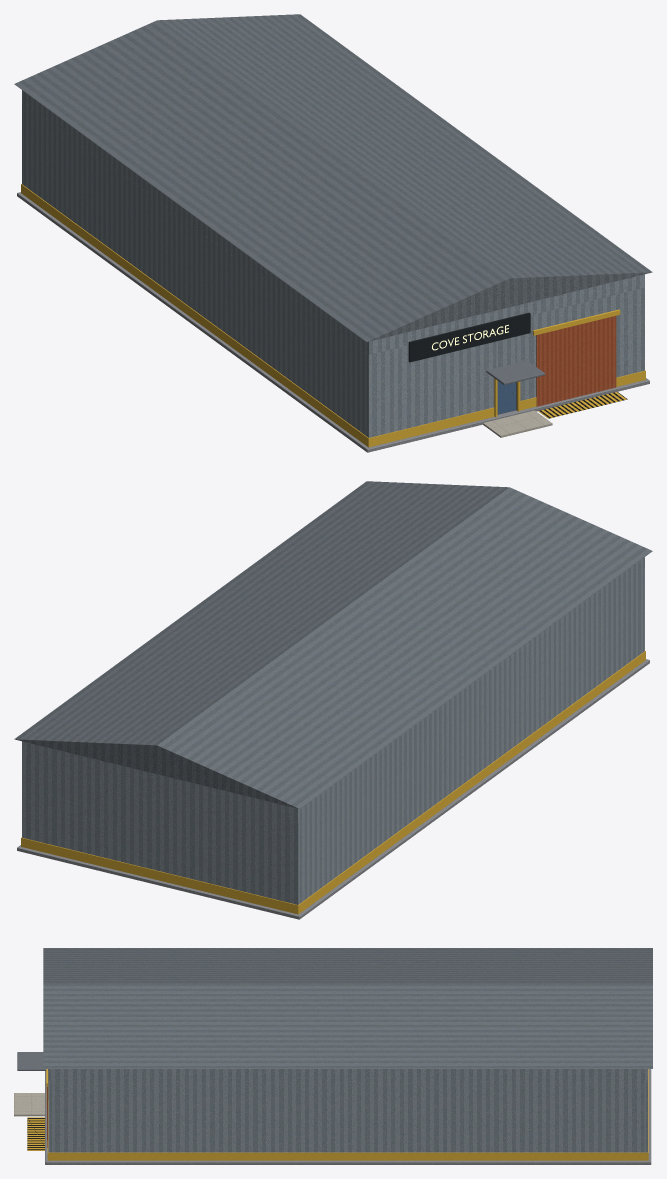
The model's file is exterior.glb.
3 views of the same model, one above another, from view 1: azimuth 30°, elevation 25°; view 2: azimuth 150°, elevation 25°; view 3: azimuth 270°, elevation 25° (orthographic). The views are drawn at different scales.
Visible parts, largest first — view 1: EX_Roof, EX_ShellW_00, EX_ShellFront_00, EX_Walls, EX_LoadingDoor, EX_ShellFront_01, EX_Plinth, EX_Band_W, EX_SignBoard, EX_Band_Front0, EX_Step, EX_LoadingDoorHazard (+1 smaller); view 2: EX_Roof, EX_ShellW_00, EX_ShellBack_00, EX_Walls, EX_Plinth, EX_Band_W, EX_Band_Back; view 3: EX_Roof, EX_ShellE_00, EX_Walls, EX_Band_E, EX_Plinth, EX_Step, EX_LoadingDoorHazard, EX_Canopy.
Boxes of the visible parts, <box> form: EX_Roof: <box>14,14,652,341</box>; EX_ShellW_00: <box>24,103,366,436</box>; EX_ShellFront_00: <box>367,341,496,437</box>; EX_Walls: <box>22,90,644,354</box>; EX_LoadingDoor: <box>536,316,616,406</box>; EX_ShellFront_01: <box>516,287,644,410</box>; EX_Plinth: <box>17,192,649,452</box>; EX_Band_W: <box>23,186,366,445</box>; EX_SignBoard: <box>408,312,530,362</box>; EX_Band_Front0: <box>366,407,494,447</box>; EX_Step: <box>483,410,552,437</box>; EX_LoadingDoorHazard: <box>538,391,627,418</box>; EX_Roof: <box>14,481,652,808</box>; EX_ShellW_00: <box>300,570,642,903</box>; EX_ShellBack_00: <box>22,754,299,904</box>; EX_Walls: <box>22,557,644,821</box>; EX_Plinth: <box>17,659,649,919</box>; EX_Band_W: <box>300,653,643,912</box>; EX_Band_Back: <box>21,837,300,914</box>; EX_Roof: <box>43,948,652,1068</box>; EX_ShellE_00: <box>52,1080,644,1152</box>; EX_Walls: <box>48,1069,647,1080</box>; EX_Band_E: <box>52,1152,644,1160</box>; EX_Plinth: <box>45,1069,651,1164</box>; EX_Step: <box>14,1093,44,1116</box>; EX_LoadingDoorHazard: <box>27,1117,44,1150</box>; EX_Canopy: <box>17,1052,48,1070</box>.
Size of the model in its own units: 16.6 by 7.8 by 37.11.
11 materials, 10 textured.
